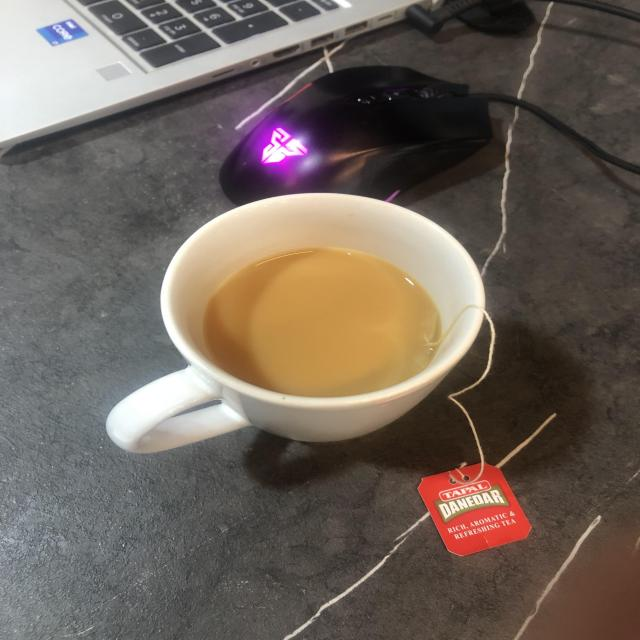cup-handle: (104, 183, 493, 485)
